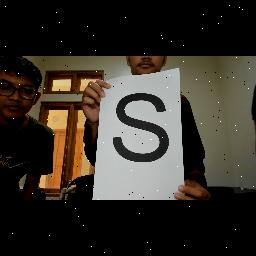s: (106, 90, 170, 168)
